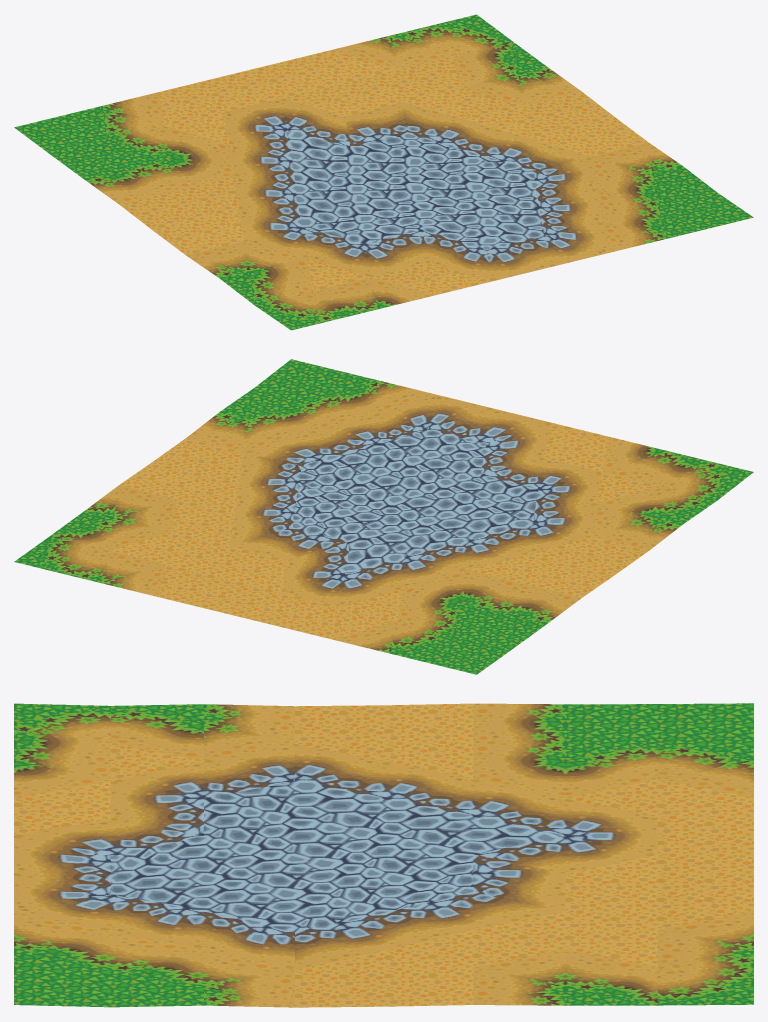
File: c_grd_f_o_3.001.glb
The picture shows the model from 3 angles, top to bottom: view 1: azimuth 30°, elevation 25°; view 2: azimuth 150°, elevation 25°; view 3: azimuth 270°, elevation 25°; orthographic projection. The views are drawn at different scales.
Parts seen in each view (by area): view 1: c_grd_f_o_3.001; view 2: c_grd_f_o_3.001; view 3: c_grd_f_o_3.001.
Boxes of the visible parts, box(x1,y1,x2,y2) form: c_grd_f_o_3.001: box(14, 14, 753, 330); c_grd_f_o_3.001: box(14, 359, 753, 674); c_grd_f_o_3.001: box(14, 703, 753, 1007).
Bounding box in the file's own units: 32 × 0.1406 × 33.2.
Materials: 5 (5 with a texture image).
